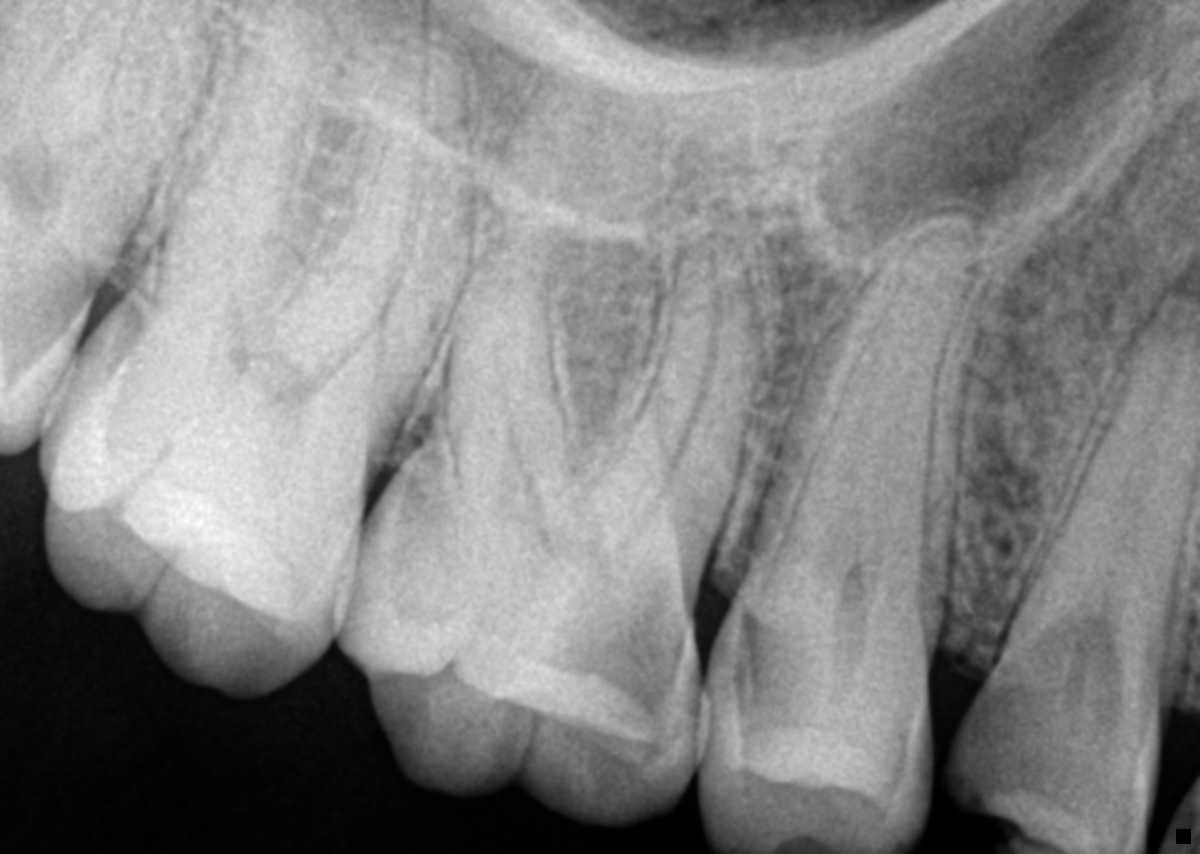Apical Lesion: (1165, 255, 1200, 297)
Distal Canal: (497, 342, 547, 514)
Distal Root: (161, 0, 332, 283), (442, 207, 583, 513)
Main Canal: (833, 556, 882, 617)
Main Root: (736, 205, 996, 621), (997, 295, 1200, 650), (0, 0, 218, 275)
Mesial Canal: (626, 246, 717, 550), (324, 138, 430, 367)
Mesial Root: (276, 40, 471, 411), (590, 225, 764, 559)
Palatal Root: (420, 47, 669, 538), (162, 0, 430, 348)
decay: (952, 617, 1124, 844), (556, 566, 685, 723), (736, 611, 816, 735)
